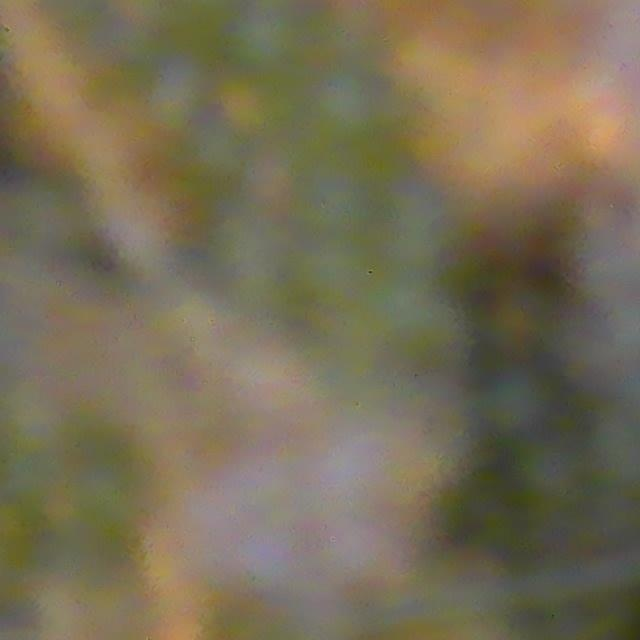SeaGrape: (320, 436, 391, 517), (228, 6, 301, 75), (239, 536, 305, 594)
